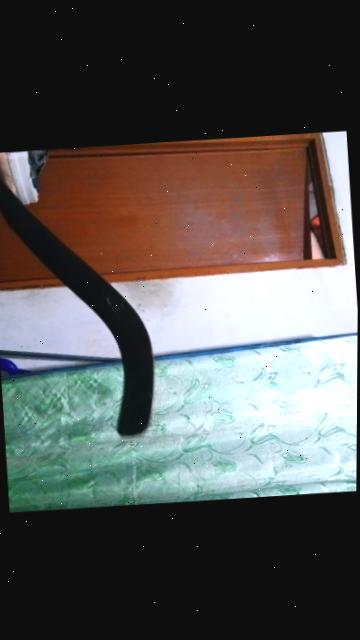long knife: (0, 142, 167, 451)
